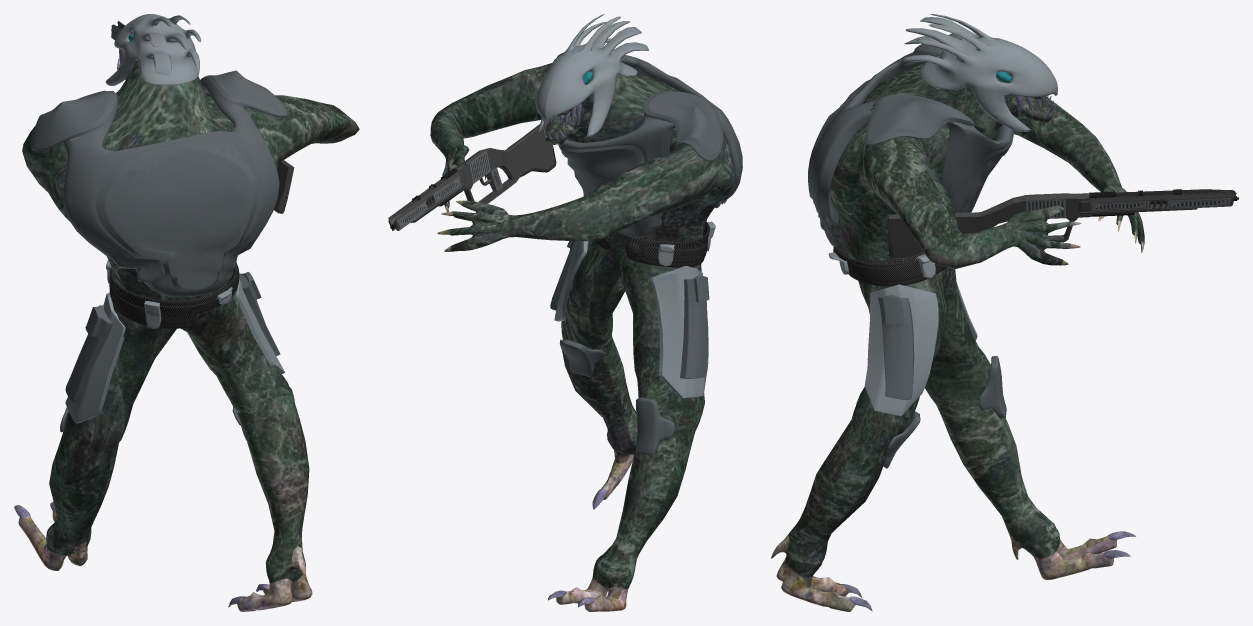
Rendered from AndarEscopeta.0014.obj.
The picture shows the model from 3 angles, left to right: view 1: azimuth 30°, elevation 25°; view 2: azimuth 150°, elevation 25°; view 3: azimuth 270°, elevation 25°; orthographic projection. The views are drawn at different scales.
Visible parts, largest first — view 1: polySurface154, escopeta:Cylinder001 polySurface154; view 2: polySurface154, escopeta:Cylinder001 polySurface154; view 3: polySurface154, escopeta:Cylinder001 polySurface154.
Boxes of the visible parts, x1=… form: polySurface154: x1=14, y1=14, x2=359, y2=611; escopeta:Cylinder001 polySurface154: x1=111, y1=21, x2=294, y2=213; polySurface154: x1=430, y1=14, x2=742, y2=611; escopeta:Cylinder001 polySurface154: x1=388, y1=123, x2=556, y2=230; polySurface154: x1=771, y1=14, x2=1144, y2=611; escopeta:Cylinder001 polySurface154: x1=888, y1=189, x2=1238, y2=258.
Bounding box in the file's own units: 1.42 × 2.5 × 1.82.
Materials: 10 (8 with a texture image).
